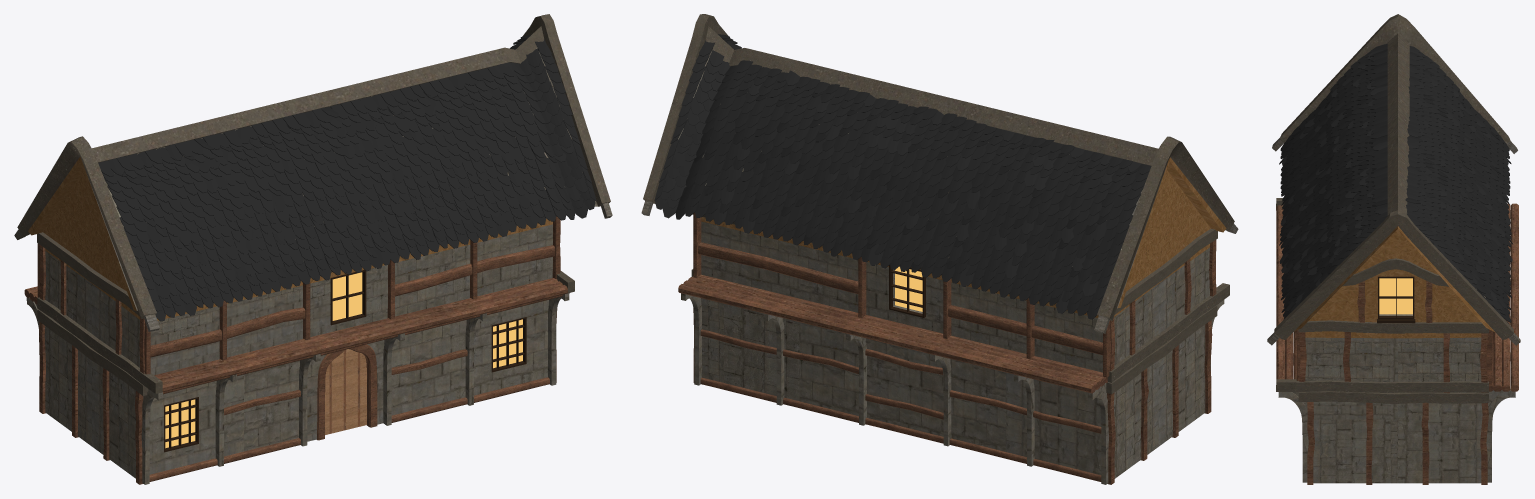
File: house_1.glb
The picture shows the model from 3 angles, left to right: view 1: azimuth 30°, elevation 25°; view 2: azimuth 150°, elevation 25°; view 3: azimuth 270°, elevation 25°; orthographic projection. The views are drawn at different scales.
Visible parts, largest first — view 1: Large_Medieval_House.001; view 2: Large_Medieval_House.001; view 3: Large_Medieval_House.001.
Part boxes in pixels (x1,y1,x2,y2): Large_Medieval_House.001: (14, 14, 612, 484); Large_Medieval_House.001: (641, 14, 1238, 484); Large_Medieval_House.001: (1267, 14, 1520, 484).
Bounding box in the file's own units: 5.64 × 3.62 × 2.87.
5 materials, 2 textured.
